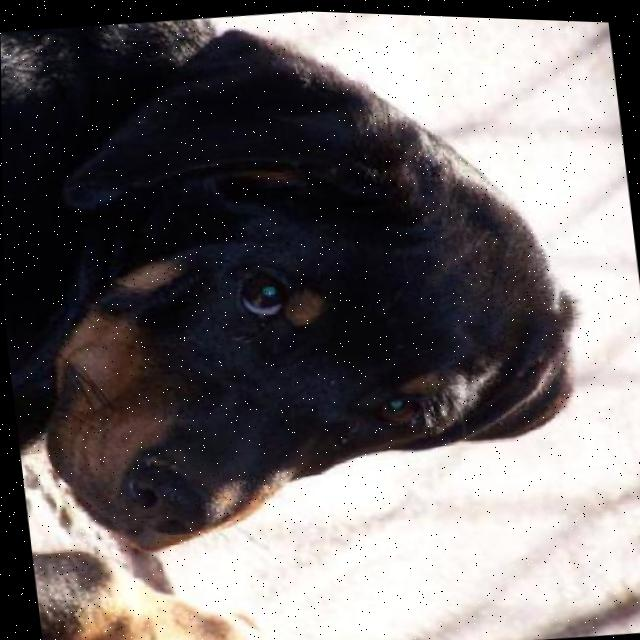dogs: (0, 0, 614, 640)
